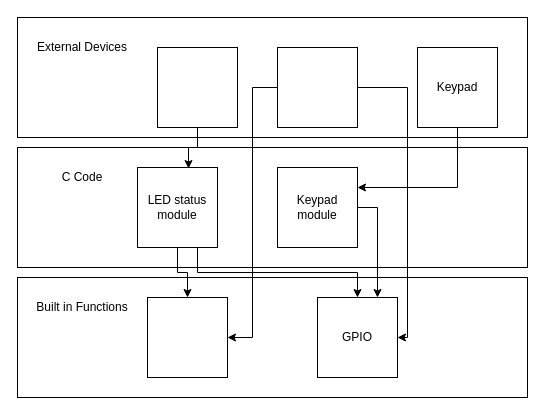
This 545x415 diagram has some shape labels left out. Here are the shapes that lost their labels. From the top down, the box of each, then its label:
(156, 46, 238, 128): RGB LED
(276, 46, 358, 128): LED Bar
(146, 296, 228, 378): Timers
